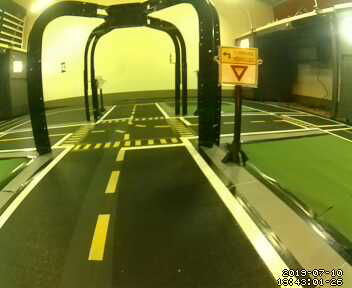Turn Yield: (217, 43, 260, 88)
